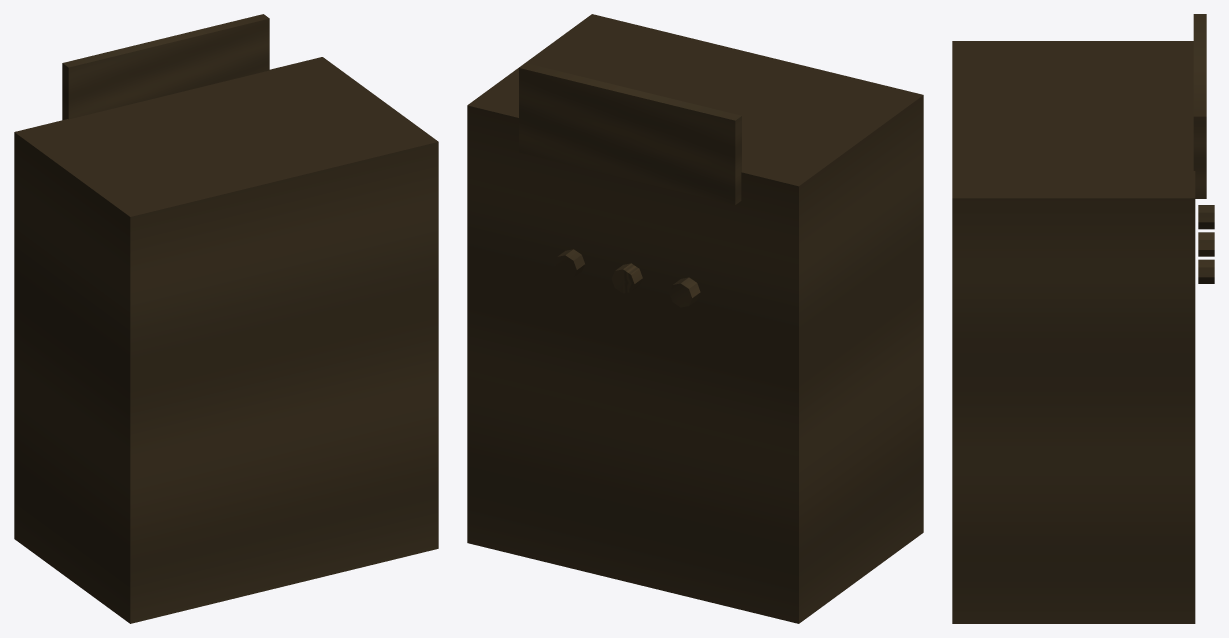
File: env_crawl_trench_timber_a.glb
The picture shows the model from 3 angles, left to right: view 1: azimuth 30°, elevation 25°; view 2: azimuth 150°, elevation 25°; view 3: azimuth 270°, elevation 25°; orthographic projection. The views are drawn at different scales.
Visible parts, largest first — view 1: env_crawl_trench_timber_a; view 2: env_crawl_trench_timber_a; view 3: env_crawl_trench_timber_a.
Part boxes in pixels (x1,y1,x2,y2): env_crawl_trench_timber_a: [14, 14, 438, 623]; env_crawl_trench_timber_a: [467, 14, 923, 623]; env_crawl_trench_timber_a: [952, 14, 1214, 623].
Size of the model in its own units: 1.15 by 1.66 by 0.81.
1 material, 1 textured.
